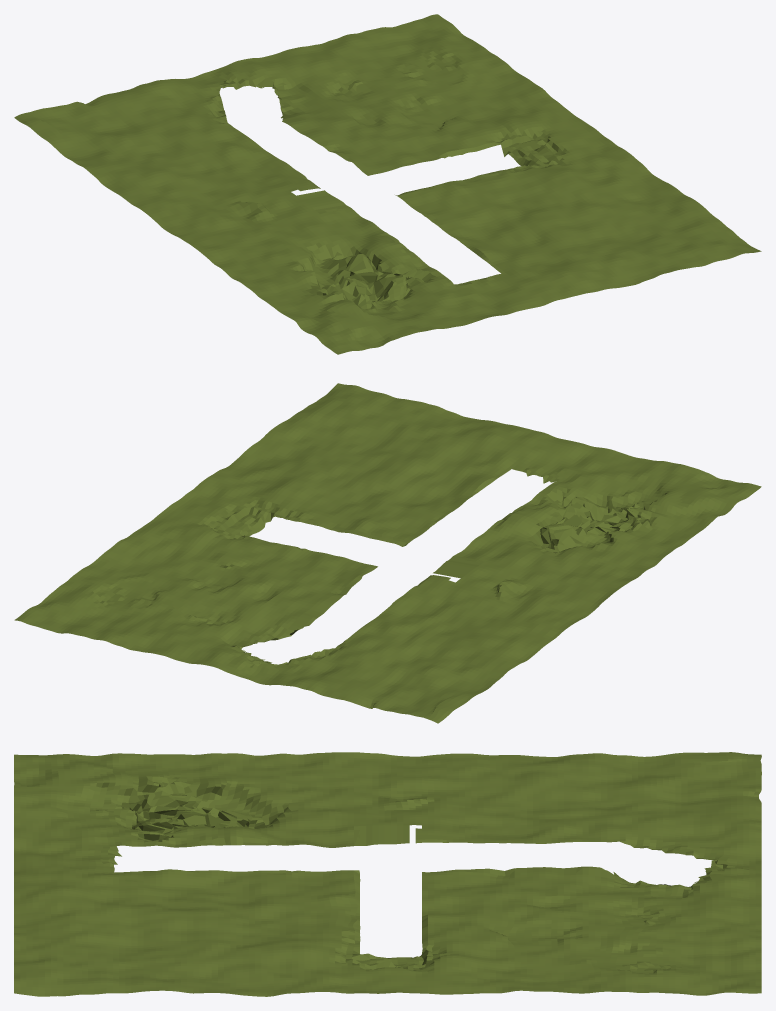
File: GrassGroundTrench.fbx
3 views of the same model, one above another, from view 1: azimuth 30°, elevation 25°; view 2: azimuth 150°, elevation 25°; view 3: azimuth 270°, elevation 25° (orthographic). The views are drawn at different scales.
Visible parts, largest first — view 1: Trench Ground Grass; view 2: Trench Ground Grass; view 3: Trench Ground Grass.
Part boxes in pixels (x1,y1,x2,y2): Trench Ground Grass: (14,14,761,354); Trench Ground Grass: (14,383,761,723); Trench Ground Grass: (14,752,761,996).
Bounding box in the file's own units: 9244 × 449 × 12212.
